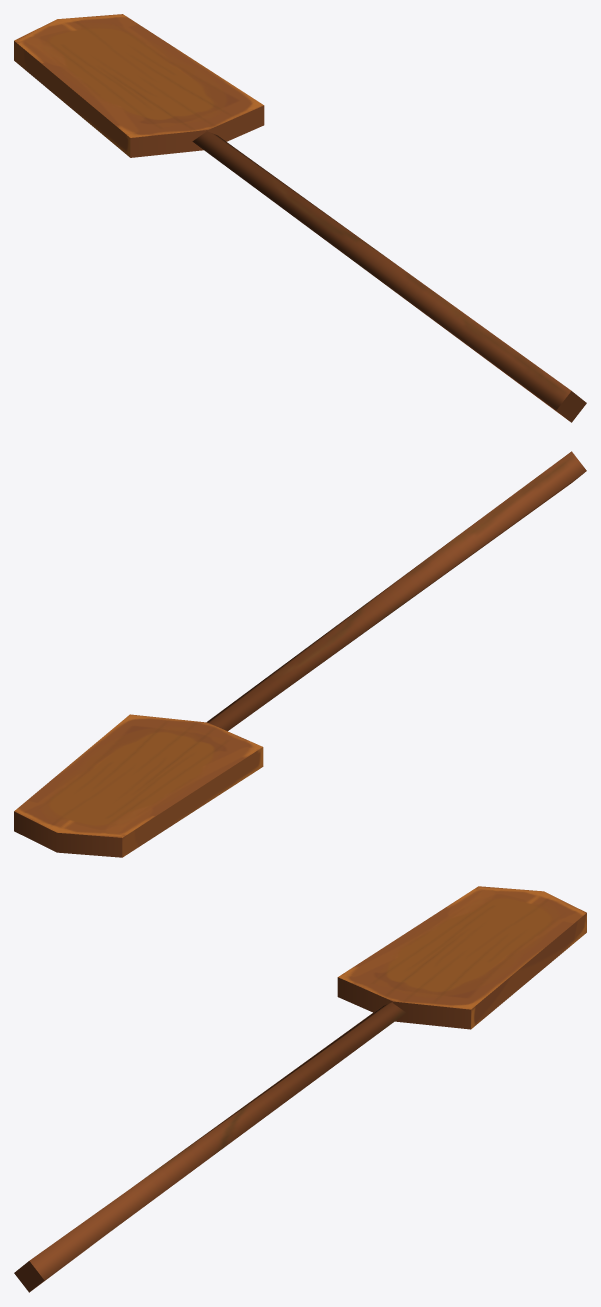
File: paddle.fbx
3 renders of one model, top to bottom at view 1: azimuth 30°, elevation 25°; view 2: azimuth 150°, elevation 25°; view 3: azimuth 330°, elevation 25°, orthographic.
Visible parts, largest first — view 1: paddle; view 2: paddle; view 3: paddle.
Part boxes in pixels (bbox=[...]): paddle: bbox=[14, 14, 586, 422]; paddle: bbox=[14, 451, 586, 857]; paddle: bbox=[14, 886, 586, 1292].
Bounding box in the file's own units: 26.37 × 6.05 × 176.
